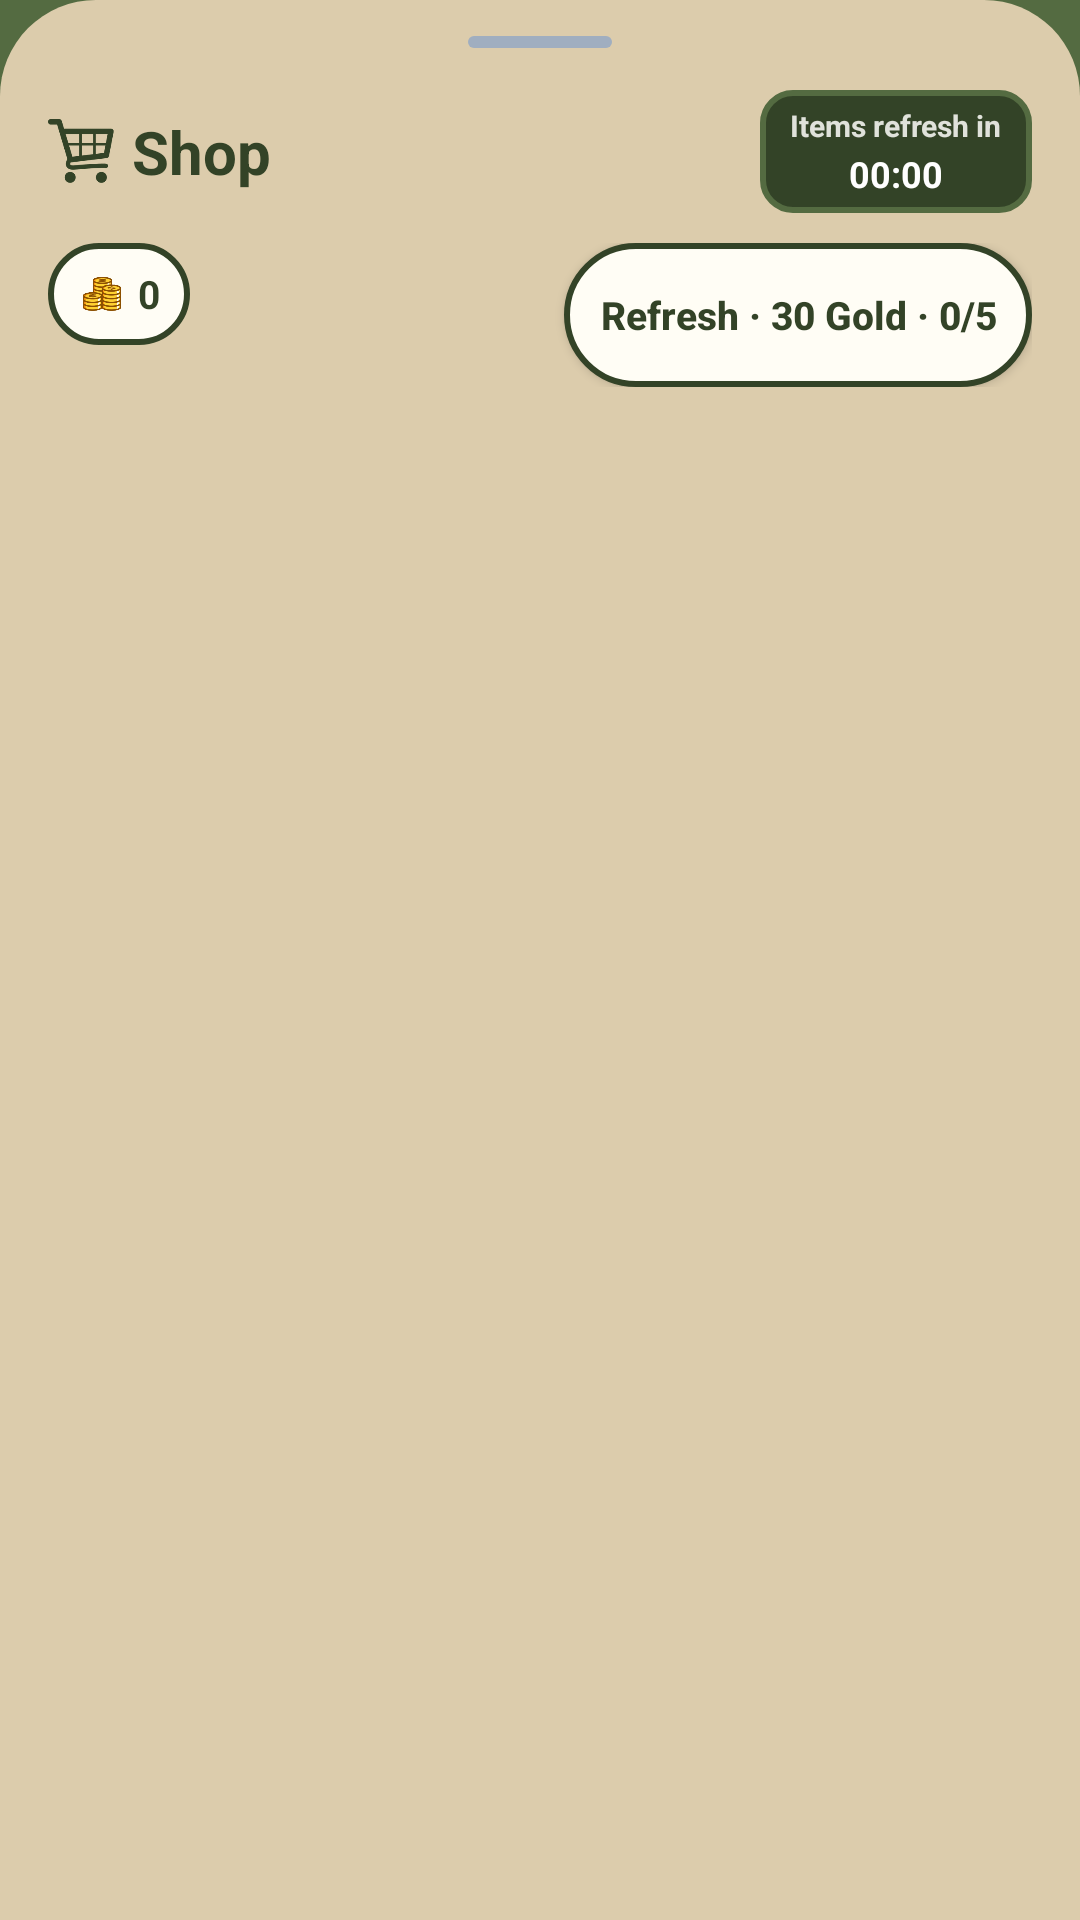

Point at icon controls on the screen. Image size 1080w x 1920h, points as point (x, y).
coins: point (102, 294)
